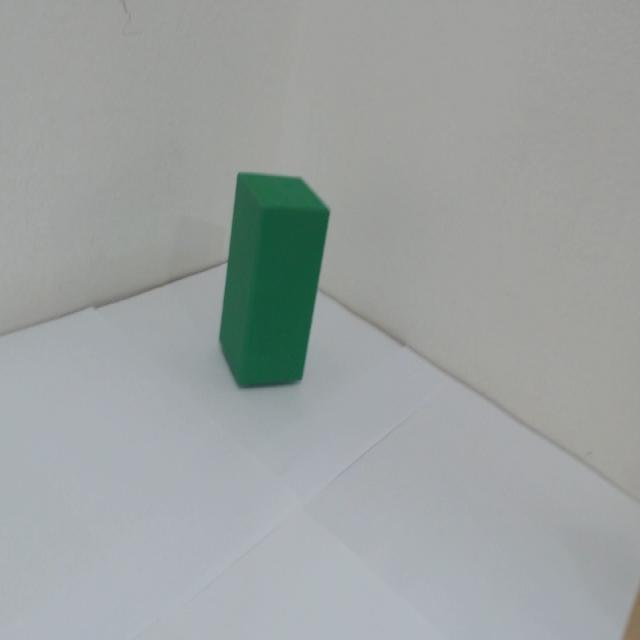cube: (183, 125, 435, 485), (171, 28, 388, 443)
